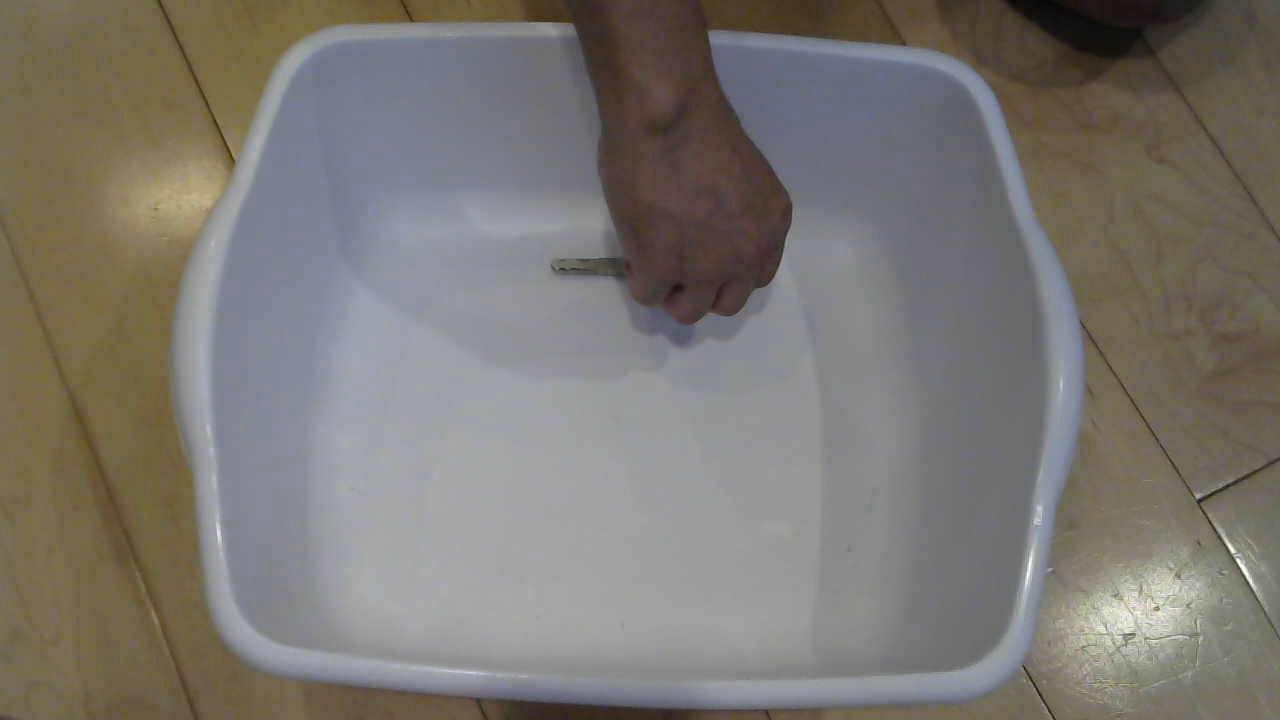key: (544, 226, 770, 322)
